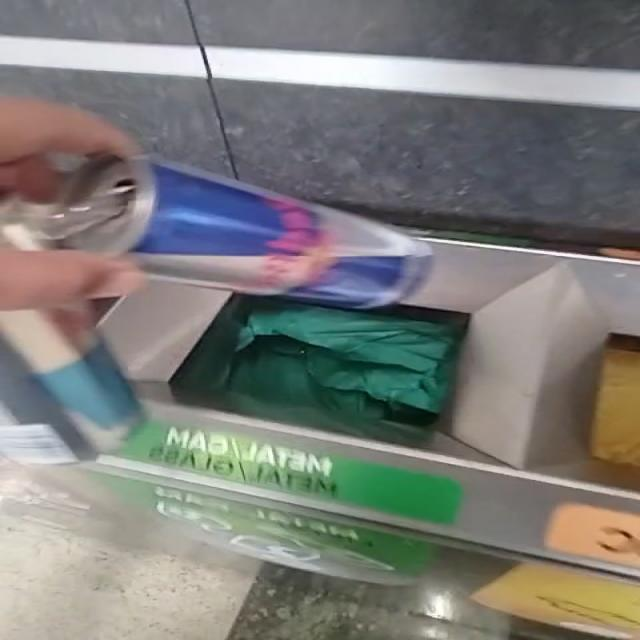Bin: (100, 244, 637, 556)
Metal: (1, 155, 432, 308)
